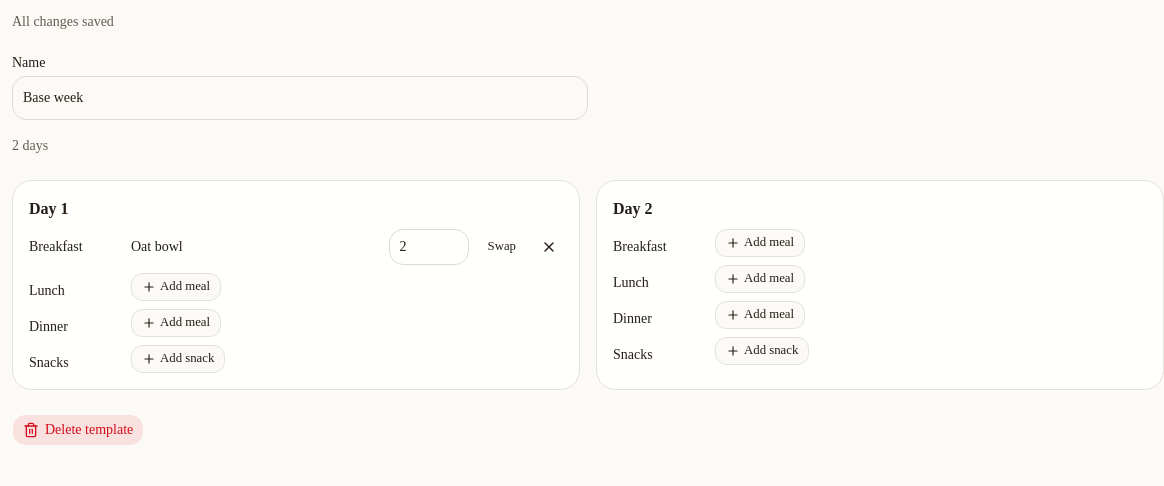
Test: TemplateEditor › offers a retry after a failed save and saves the same draft again
Replace the text in the field named "Portion of breakfast on day 1" with "3" at (429, 247), box [389,229,469,265]
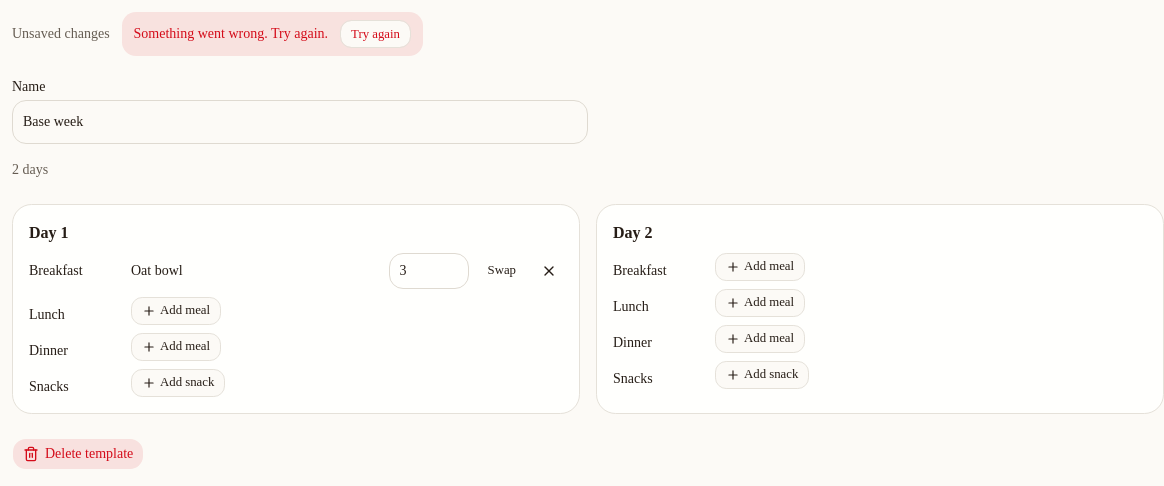
expect the text "Something went wrong. Try again." is shown: met, box [134,24,328,44]
Click the button "Try again" at (376, 34), box [340,20,411,48]
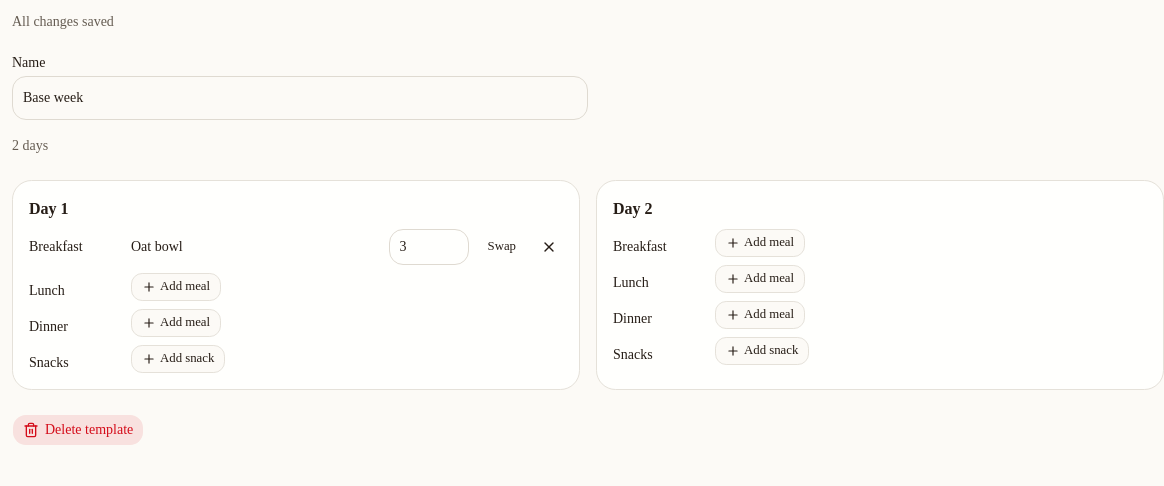
expect the text "All changes saved" is shown: met, box [12,12,114,32]
